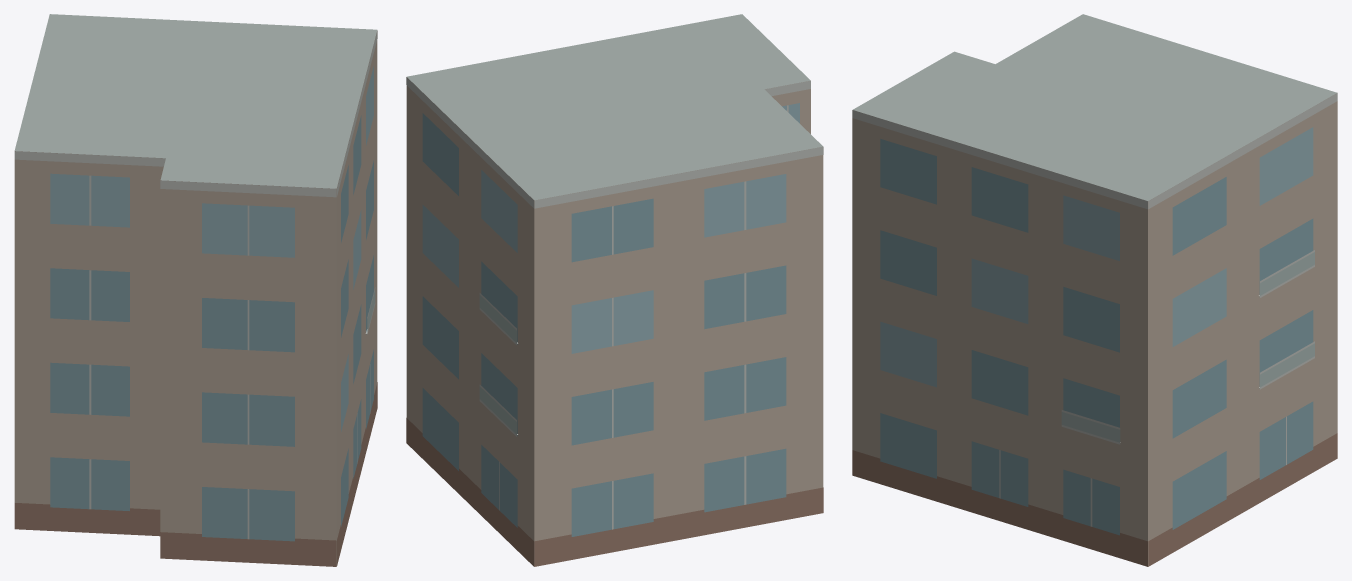
The model's file is survey-upis-32722470.glb.
3 renders of one model, left to right at view 1: azimuth 30°, elevation 25°; view 2: azimuth 150°, elevation 25°; view 3: azimuth 270°, elevation 25°, orthographic. The views are drawn at different scales.
Parts seen in each view (by area): view 1: survey-upis-32722470.tmp; view 2: survey-upis-32722470.tmp; view 3: survey-upis-32722470.tmp.
Boxes of the visible parts, x1,y1,x2,y2 form: survey-upis-32722470.tmp: (14, 14, 377, 566); survey-upis-32722470.tmp: (406, 14, 823, 566); survey-upis-32722470.tmp: (852, 14, 1337, 566).
Size of the model in its own units: 11.86 by 10.8 by 12.99.
